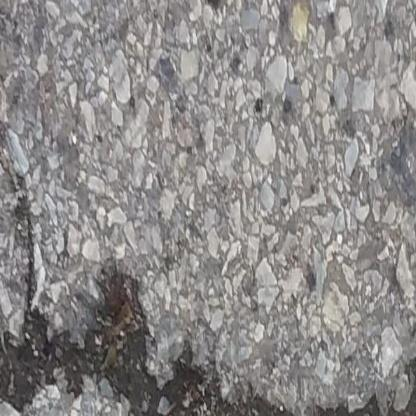Cracks: (0, 273, 310, 416), (312, 354, 416, 416)
